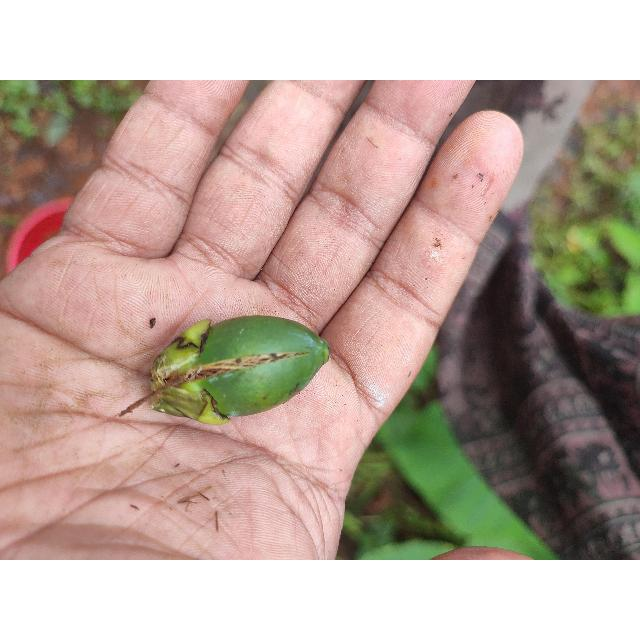damaged: (149, 315, 330, 427)
